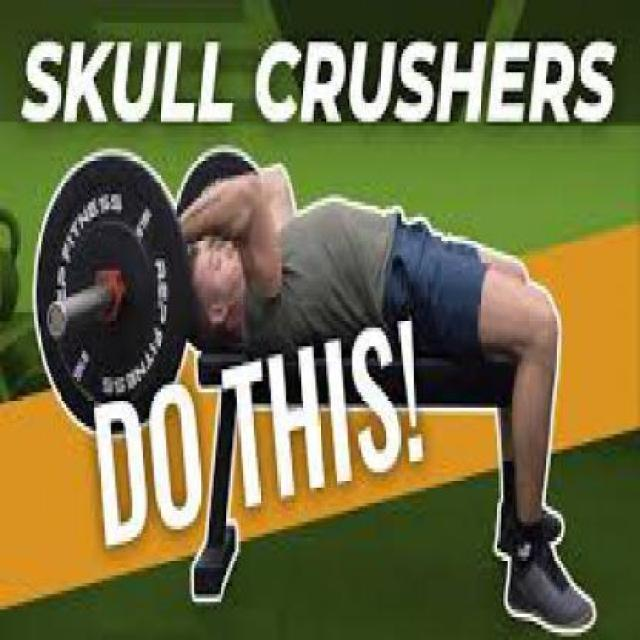barbell: (31, 143, 194, 445)
